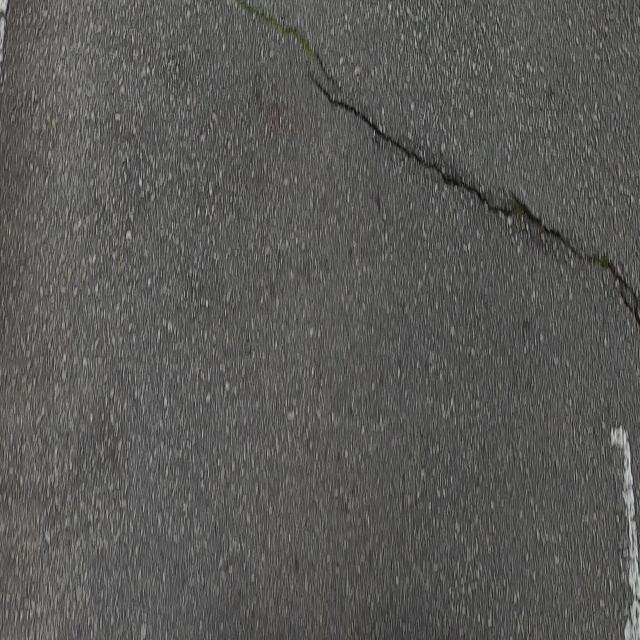Retak-Melintang: (306, 84, 636, 330)
